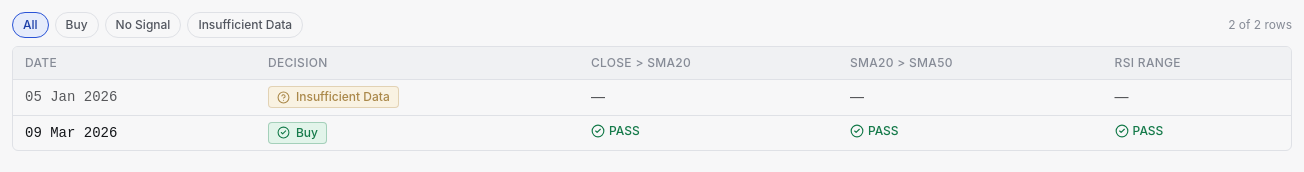
it: StrategyEvaluationTable › filtering to BUY only changes what is displayed, not the underlying data
Click the button "Buy".
click(77, 25)  # box [55, 12, 99, 38]
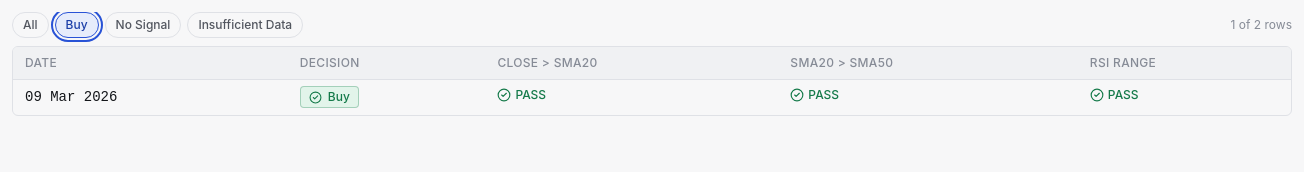
Expected: the text "Buy" is shown, [300, 86, 359, 108]
Expected: the text "1 of 2 rows" is shown, [1231, 17, 1292, 33]
Click the button "All".
click(30, 25)  # box [12, 12, 49, 38]
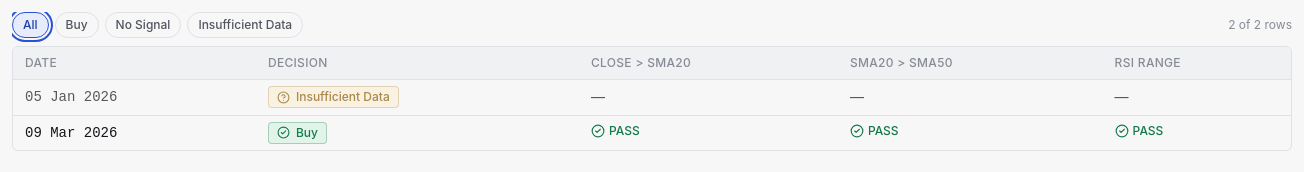
Expected: the text "2 of 2 rows" is shown, [1228, 17, 1292, 33]
Expected: the text "Insufficient Data" is shown, [268, 86, 399, 108]
